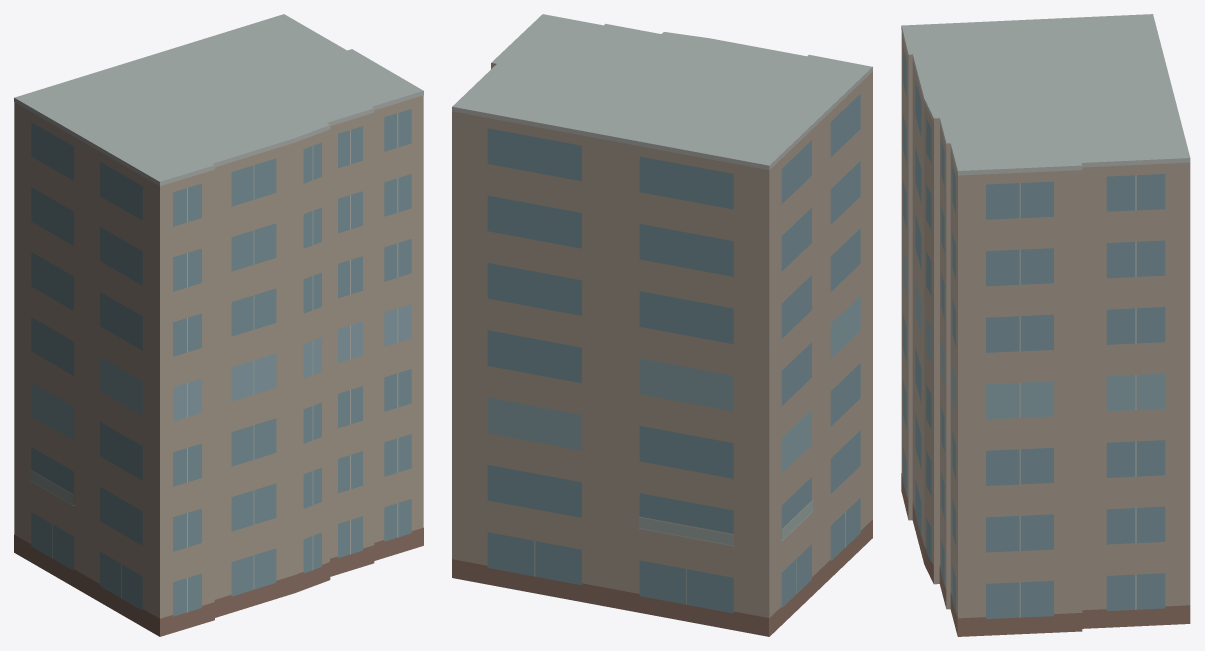
File: survey-upis-32743627.glb
3 renders of one model, left to right at view 1: azimuth 30°, elevation 25°; view 2: azimuth 150°, elevation 25°; view 3: azimuth 270°, elevation 25°, orthographic. The views are drawn at different scales.
Visible parts, largest first — view 1: survey-upis-32743627.tmp; view 2: survey-upis-32743627.tmp; view 3: survey-upis-32743627.tmp.
Part boxes in pixels (<box>): survey-upis-32743627.tmp: <box>14,14,423,636</box>; survey-upis-32743627.tmp: <box>452,14,872,636</box>; survey-upis-32743627.tmp: <box>901,14,1190,636</box>.
Size of the model in its own units: 18.08 by 25 by 14.06.
